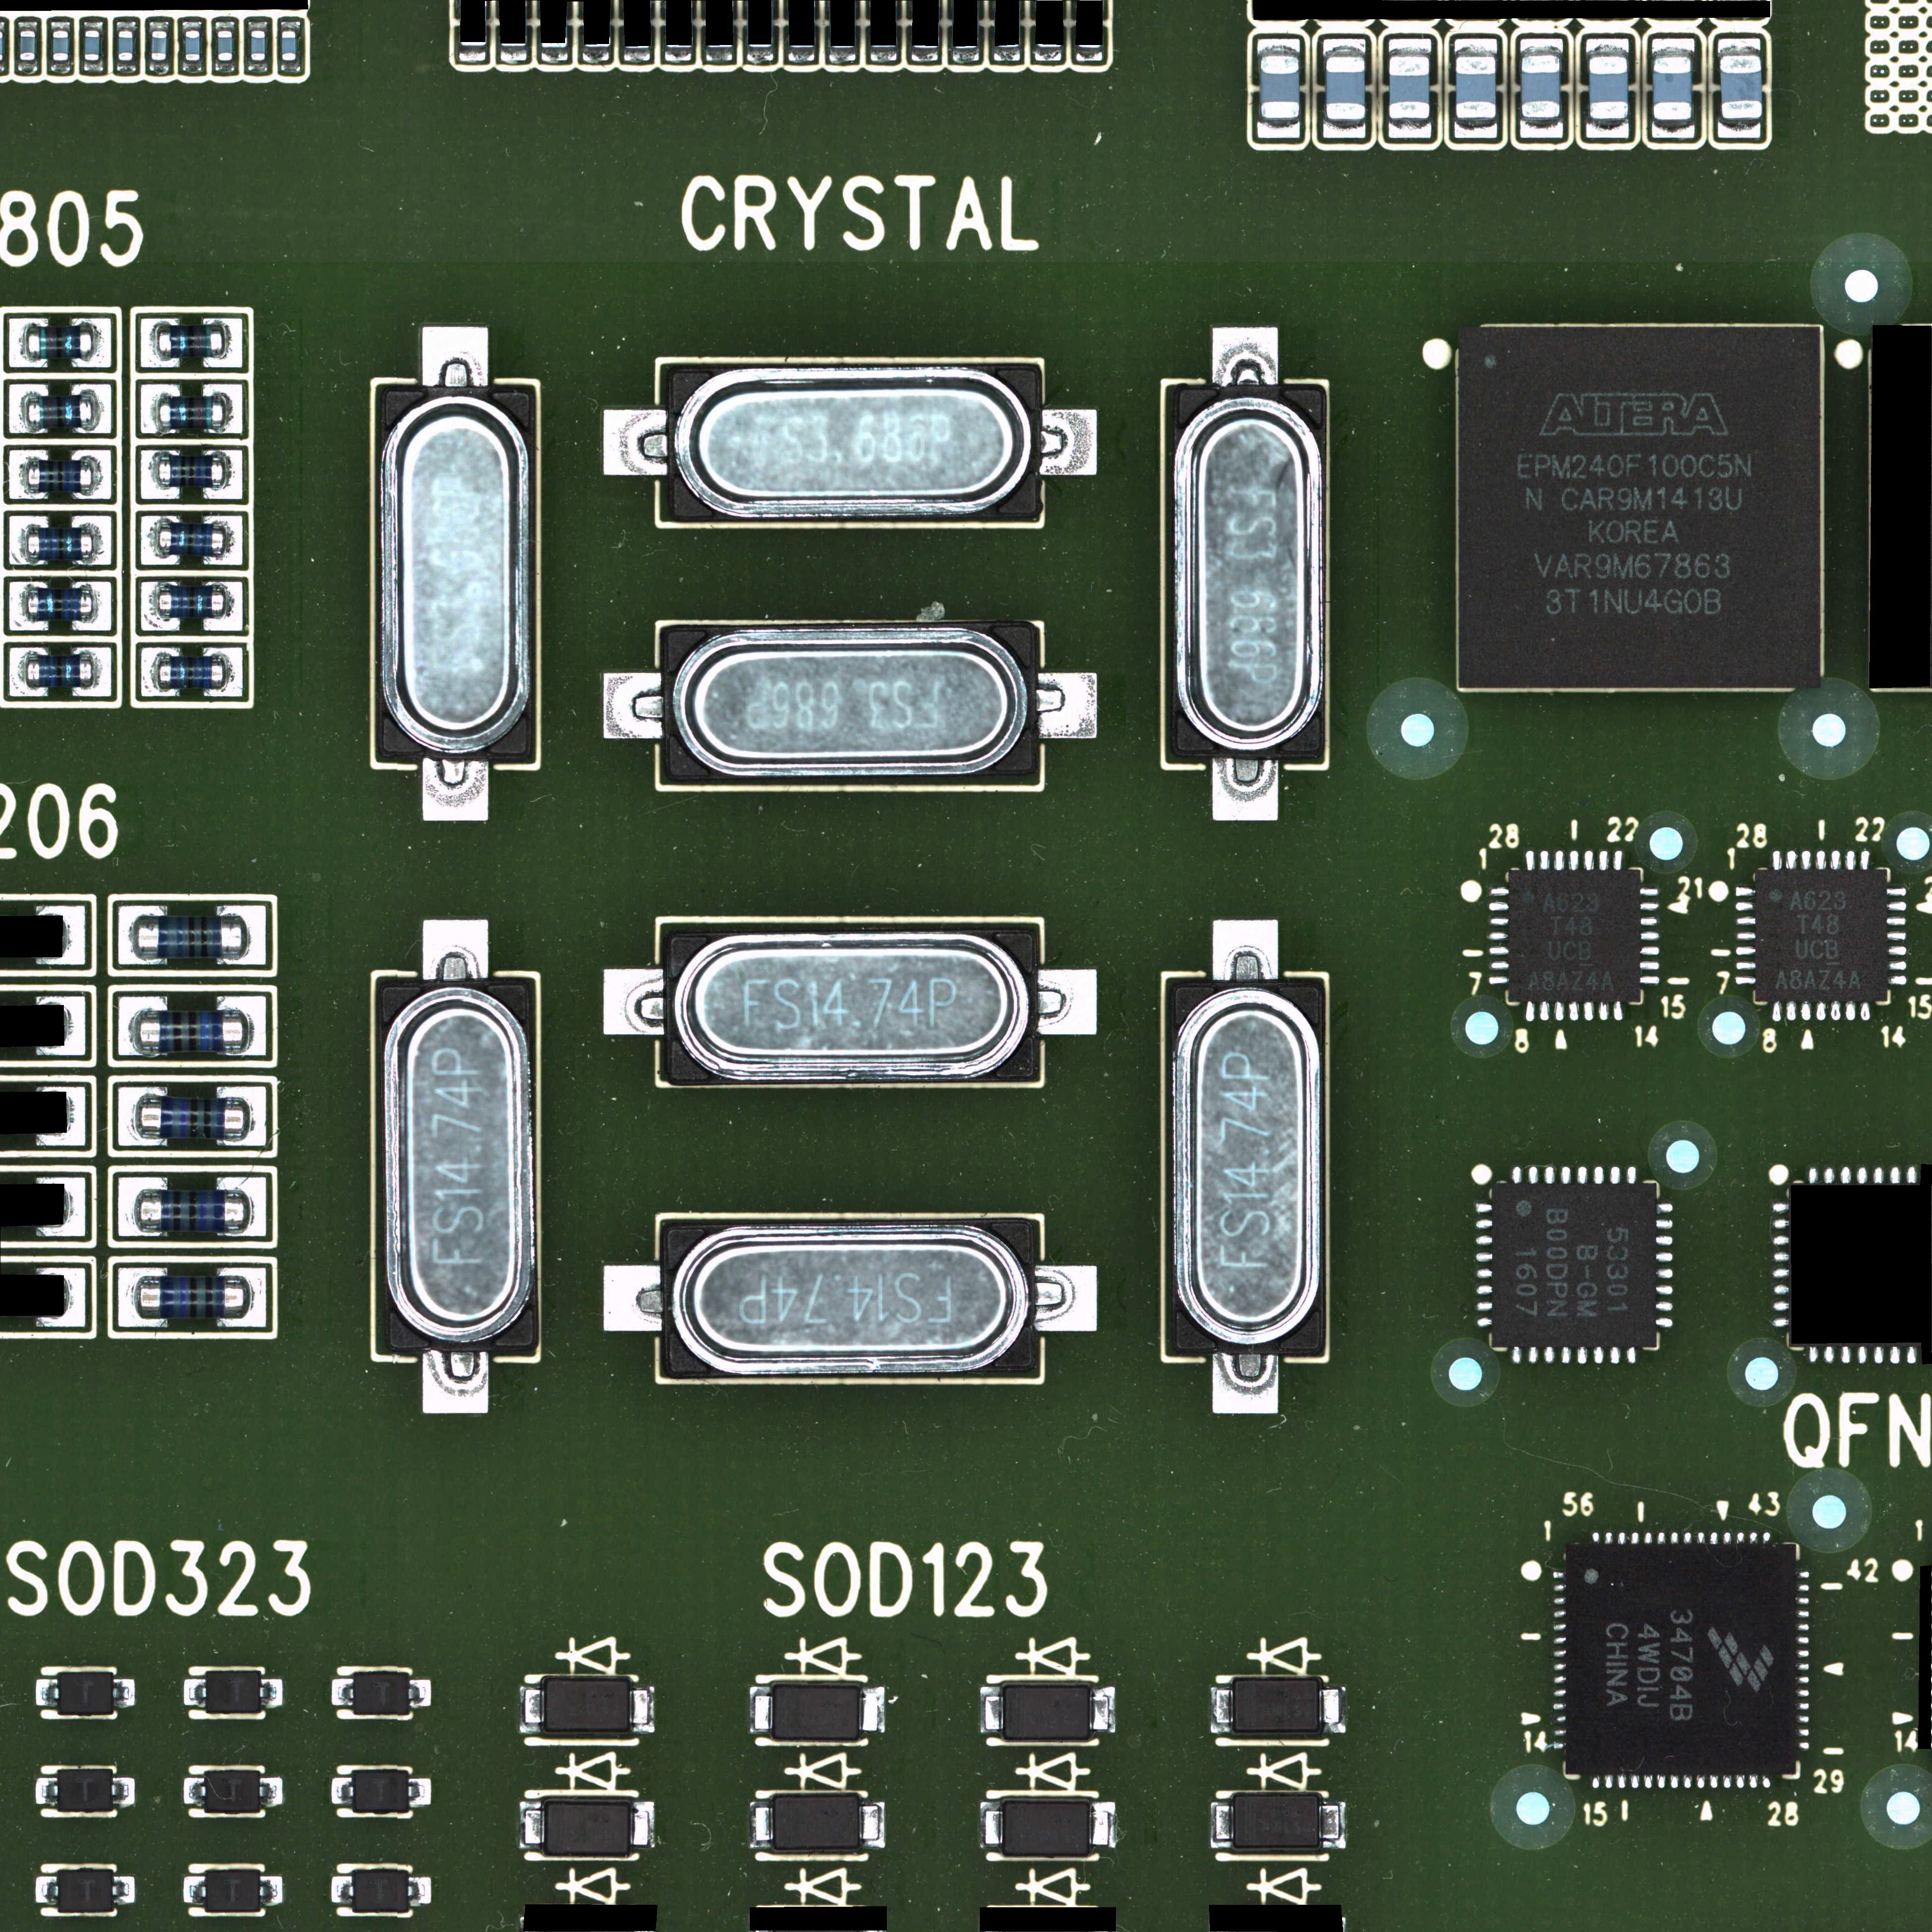Package: (1461, 326, 1822, 688), (658, 1215, 1040, 1382), (660, 925, 1042, 1086), (372, 384, 533, 761), (1168, 380, 1325, 764), (377, 978, 536, 1357), (1166, 978, 1323, 1357), (662, 364, 1040, 520), (662, 626, 1037, 782), (1566, 1545, 1796, 1775), (1493, 1184, 1658, 1346), (1755, 870, 1886, 1001), (1511, 870, 1640, 1000), (134, 1189, 249, 1231), (134, 916, 248, 959), (136, 1099, 249, 1141), (134, 1008, 248, 1049), (134, 1277, 248, 1318), (1005, 1686, 1090, 1739), (773, 1798, 860, 1849), (1235, 1679, 1318, 1732), (543, 1679, 628, 1730), (1005, 1801, 1090, 1852), (773, 1688, 860, 1737), (1235, 1796, 1318, 1847), (545, 1805, 628, 1854), (1258, 55, 1300, 120), (154, 324, 230, 359), (154, 395, 230, 430), (154, 455, 230, 490), (154, 522, 230, 557), (154, 584, 230, 619), (154, 653, 230, 688), (23, 587, 97, 623), (23, 525, 97, 561), (23, 458, 97, 494), (23, 391, 97, 426), (23, 324, 97, 359), (25, 655, 97, 690), (1325, 57, 1364, 119), (1391, 57, 1430, 119), (1456, 57, 1495, 119), (1522, 57, 1560, 119), (1589, 57, 1628, 119), (1654, 57, 1693, 119), (1721, 57, 1760, 119), (58, 1771, 113, 1813), (58, 1868, 113, 1911), (205, 1771, 260, 1813), (354, 1868, 409, 1911), (354, 1672, 409, 1714), (207, 1868, 260, 1911), (58, 1674, 113, 1714), (205, 1674, 260, 1714), (354, 1771, 409, 1812), (218, 32, 232, 62), (119, 28, 133, 58), (152, 30, 166, 60), (283, 30, 295, 62), (55, 28, 67, 60), (251, 30, 264, 60), (188, 30, 200, 60), (87, 30, 99, 60), (21, 30, 34, 60)
Solder: (423, 761, 490, 821), (423, 922, 487, 978), (1212, 922, 1277, 977), (425, 1357, 490, 1412), (1039, 674, 1095, 736), (1042, 970, 1099, 1031), (1214, 764, 1277, 819), (1214, 1359, 1277, 1414), (423, 329, 488, 382), (605, 410, 660, 472), (605, 676, 660, 738), (1046, 410, 1100, 472), (1040, 1267, 1095, 1329), (603, 1269, 658, 1330), (605, 971, 658, 1033), (1214, 329, 1277, 379), (1318, 1801, 1345, 1849), (860, 1801, 885, 1849), (1092, 1801, 1116, 1849), (980, 1686, 1005, 1734), (1210, 1686, 1235, 1734), (520, 1801, 545, 1849), (630, 1686, 655, 1732), (748, 1803, 773, 1849), (860, 1688, 885, 1734), (748, 1686, 773, 1732), (980, 1803, 1005, 1849), (1320, 1686, 1345, 1732), (1090, 1690, 1116, 1732), (520, 1686, 543, 1734), (1210, 1801, 1233, 1849), (628, 1803, 653, 1847), (248, 996, 265, 1056), (248, 1177, 265, 1237), (67, 906, 85, 966), (67, 996, 85, 1056), (67, 1086, 85, 1146), (67, 1177, 85, 1237), (248, 906, 265, 964), (67, 1269, 85, 1327), (249, 1086, 265, 1146), (248, 1267, 264, 1327), (119, 1267, 134, 1327), (119, 996, 134, 1054), (120, 1088, 136, 1146), (119, 906, 133, 966), (120, 1177, 134, 1237), (1258, 120, 1299, 138), (1389, 39, 1430, 57), (1389, 120, 1430, 138), (1520, 39, 1560, 57), (1522, 120, 1562, 138), (1587, 120, 1628, 138), (1720, 120, 1760, 138), (1720, 39, 1760, 57), (230, 318, 244, 368), (140, 318, 154, 368), (230, 515, 244, 564), (140, 515, 154, 564), (140, 580, 154, 630), (140, 648, 154, 697), (97, 517, 111, 566), (9, 517, 23, 566), (97, 451, 111, 501), (9, 451, 23, 501), (97, 384, 111, 433), (9, 384, 23, 433), (97, 318, 111, 368), (9, 318, 23, 368), (230, 580, 244, 628), (230, 648, 244, 695), (97, 582, 111, 630), (9, 582, 23, 630), (35, 1679, 58, 1707), (35, 1778, 58, 1806), (35, 1875, 58, 1904), (260, 1679, 283, 1707), (260, 1778, 283, 1806), (409, 1875, 432, 1904), (331, 1679, 354, 1707), (1325, 120, 1366, 136), (1323, 39, 1364, 55), (1456, 120, 1497, 136), (1454, 39, 1495, 55), (1587, 41, 1628, 57), (1652, 120, 1693, 136), (1652, 39, 1693, 55), (230, 384, 242, 433), (140, 449, 152, 499), (99, 648, 111, 697), (11, 648, 23, 697), (331, 1778, 354, 1805), (1258, 39, 1300, 53), (113, 1679, 134, 1707), (113, 1778, 134, 1806), (113, 1875, 134, 1904), (262, 1875, 283, 1904), (184, 1875, 205, 1904), (184, 1679, 205, 1707), (184, 1778, 205, 1806), (333, 1875, 354, 1904), (409, 1778, 430, 1806), (409, 1679, 430, 1707), (140, 386, 152, 433), (230, 449, 242, 497), (458, 46, 487, 62), (499, 48, 527, 62), (540, 48, 568, 62), (580, 48, 609, 62), (663, 50, 692, 64), (623, 48, 651, 62), (706, 48, 734, 62), (747, 48, 775, 62), (787, 48, 816, 62), (830, 50, 858, 64), (952, 50, 980, 64), (911, 50, 939, 64), (869, 50, 897, 64), (993, 48, 1021, 62), (1035, 48, 1063, 62), (1076, 50, 1104, 64), (1769, 1200, 1789, 1214), (1769, 1267, 1789, 1281), (1771, 1215, 1789, 1230), (1771, 1233, 1789, 1247), (1771, 1249, 1789, 1263), (1771, 1316, 1789, 1330), (1771, 1300, 1789, 1315), (1771, 1283, 1789, 1297), (1905, 1164, 1918, 1184), (1640, 886, 1665, 895), (1890, 1166, 1902, 1184), (1856, 1166, 1868, 1184), (1840, 1166, 1852, 1184), (1806, 1166, 1819, 1184), (1806, 1346, 1819, 1364), (1822, 1346, 1835, 1364), (1856, 1346, 1868, 1364), (1840, 1346, 1852, 1364), (1905, 1346, 1918, 1364), (1890, 1346, 1902, 1364), (1874, 1346, 1886, 1364), (1610, 1346, 1621, 1366), (1576, 1348, 1587, 1368), (1560, 1346, 1571, 1366), (1545, 1348, 1555, 1368), (1610, 1164, 1621, 1184), (1560, 1164, 1571, 1184), (1545, 1164, 1555, 1184), (1511, 1164, 1522, 1184), (1486, 947, 1509, 955), (1732, 931, 1755, 939), (1732, 886, 1755, 895), (1888, 947, 1911, 955), (1488, 961, 1509, 970), (1642, 975, 1663, 984), (1734, 975, 1755, 984), (1890, 961, 1911, 970), (1511, 1348, 1522, 1366), (1658, 1300, 1675, 1311), (1874, 1166, 1884, 1184), (1824, 1166, 1835, 1184), (1486, 888, 1511, 895), (1486, 918, 1511, 925), (1638, 947, 1663, 954), (1730, 916, 1755, 924), (1730, 902, 1755, 909), (1886, 918, 1911, 925), (1886, 902, 1911, 909), (216, 62, 235, 71), (117, 60, 136, 69), (18, 62, 37, 71), (1599, 851, 1608, 870), (1569, 851, 1578, 870), (1555, 851, 1564, 870), (1599, 1001, 1608, 1021), (1555, 1001, 1564, 1021), (1525, 1001, 1534, 1021), (1773, 849, 1782, 869), (1831, 849, 1840, 869), (1831, 1003, 1840, 1023), (1773, 1003, 1782, 1023), (1628, 1346, 1637, 1366), (1529, 1348, 1537, 1368), (1628, 1164, 1637, 1184), (1594, 1164, 1603, 1184), (1578, 1164, 1587, 1184), (1529, 1164, 1537, 1184), (1486, 902, 1509, 909), (1486, 932, 1509, 939), (1488, 977, 1511, 984), (1640, 932, 1663, 939), (1640, 918, 1663, 925), (1640, 902, 1663, 909), (1732, 947, 1755, 954), (1888, 932, 1911, 939), (1888, 888, 1911, 895), (281, 62, 299, 71), (186, 62, 203, 71), (51, 62, 69, 71), (85, 62, 103, 71), (1594, 1348, 1603, 1366), (1476, 1205, 1493, 1214), (1476, 1219, 1493, 1228), (1476, 1251, 1493, 1260), (1476, 1235, 1493, 1244), (1476, 1316, 1493, 1325), (1476, 1302, 1493, 1311), (1476, 1286, 1493, 1295), (1476, 1269, 1493, 1277), (1658, 1318, 1675, 1327), (1658, 1269, 1675, 1277), (1658, 1237, 1675, 1246), (1658, 1219, 1675, 1228), (1640, 961, 1661, 968), (1734, 961, 1755, 968), (1890, 977, 1911, 984), (281, 21, 297, 30), (218, 21, 234, 30), (53, 19, 69, 28), (119, 19, 134, 28), (152, 21, 168, 30), (1658, 1284, 1674, 1293), (1658, 1253, 1674, 1261), (1658, 1203, 1674, 1212), (249, 62, 269, 69), (149, 62, 168, 69), (1614, 851, 1621, 870), (1585, 851, 1592, 870), (1527, 851, 1534, 870), (1541, 851, 1548, 870), (1614, 1001, 1621, 1021), (1585, 1001, 1592, 1021), (1571, 1001, 1578, 1021), (1541, 1001, 1548, 1021), (1787, 849, 1794, 869), (1803, 849, 1810, 869), (1817, 849, 1824, 869), (1847, 849, 1854, 869), (1861, 849, 1868, 869), (1861, 1003, 1868, 1023), (1847, 1003, 1854, 1023), (1817, 1003, 1824, 1023), (1803, 1003, 1810, 1023), (1787, 1003, 1794, 1023), (1762, 1775, 1771, 1789), (251, 21, 267, 28), (186, 21, 202, 28), (85, 21, 101, 28), (19, 21, 35, 28), (1711, 1773, 1718, 1789), (1697, 1773, 1704, 1789), (1684, 1773, 1691, 1789), (1672, 1773, 1679, 1789), (1553, 1571, 1566, 1580), (1553, 1583, 1566, 1592), (1553, 1637, 1566, 1645), (1553, 1624, 1566, 1633), (1553, 1714, 1566, 1723), (1796, 1714, 1808, 1723), (1796, 1729, 1808, 1737), (1684, 1530, 1691, 1545), (1697, 1530, 1704, 1545), (1605, 1530, 1612, 1545), (1592, 1530, 1599, 1545), (1658, 1530, 1665, 1545), (1658, 1775, 1665, 1789), (1750, 1775, 1757, 1789), (1737, 1775, 1744, 1789), (1723, 1775, 1730, 1789), (1645, 1775, 1652, 1789), (1631, 1775, 1638, 1789), (1619, 1775, 1626, 1789), (1605, 1775, 1612, 1789), (1592, 1775, 1599, 1789), (1552, 1741, 1566, 1748), (1796, 1585, 1810, 1592), (1796, 1598, 1810, 1605), (1796, 1610, 1810, 1617), (1796, 1626, 1810, 1633), (1796, 1675, 1810, 1683), (1750, 1532, 1757, 1545), (1723, 1532, 1730, 1545), (1737, 1532, 1744, 1545), (1711, 1532, 1718, 1545), (1631, 1532, 1638, 1545), (1553, 1610, 1566, 1617), (1553, 1598, 1566, 1605), (1553, 1663, 1566, 1670), (1553, 1651, 1566, 1658), (1553, 1729, 1566, 1736), (1553, 1675, 1566, 1683), (1553, 1688, 1566, 1695), (1553, 1702, 1566, 1709), (1798, 1573, 1810, 1580), (1796, 1638, 1808, 1645), (1796, 1651, 1808, 1658), (1796, 1663, 1808, 1670), (1796, 1688, 1808, 1695), (1796, 1702, 1808, 1709), (1796, 1741, 1808, 1748), (1619, 1530, 1624, 1545), (1764, 1532, 1769, 1545), (1672, 1530, 1677, 1543), (1645, 1532, 1651, 1545)
